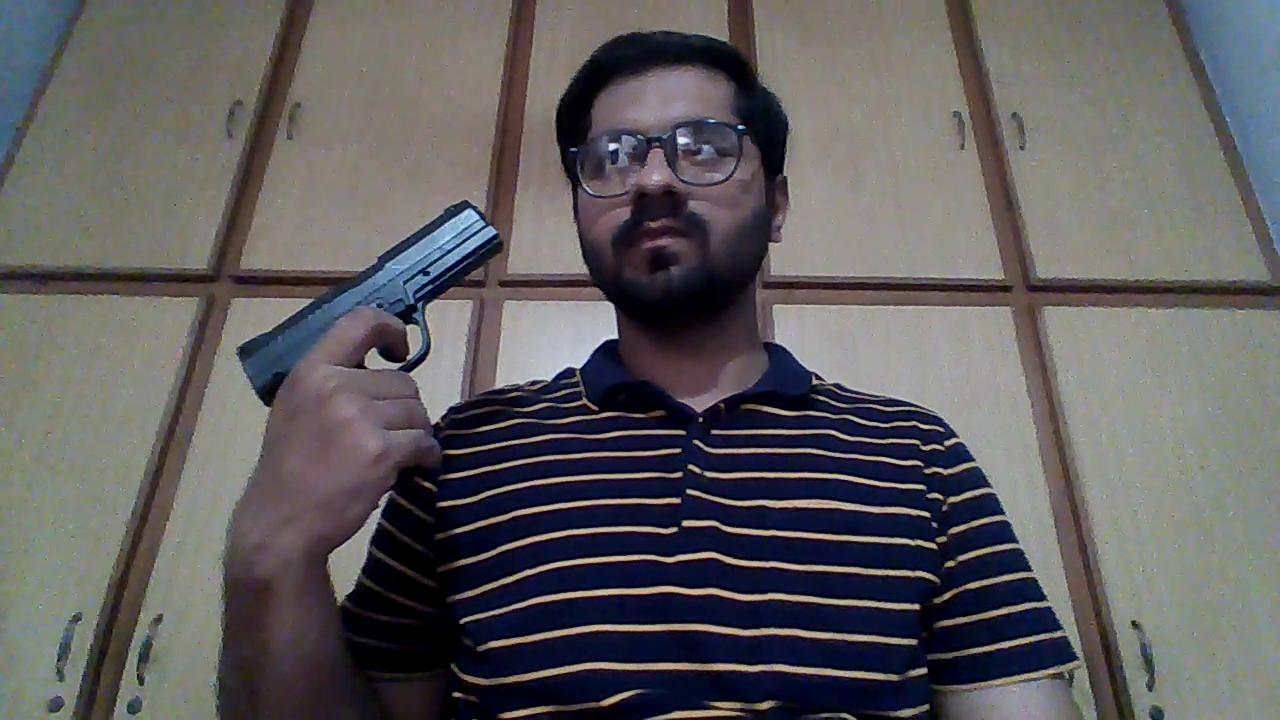criminal: (214, 29, 1086, 720)
weapon: (233, 198, 506, 415)
